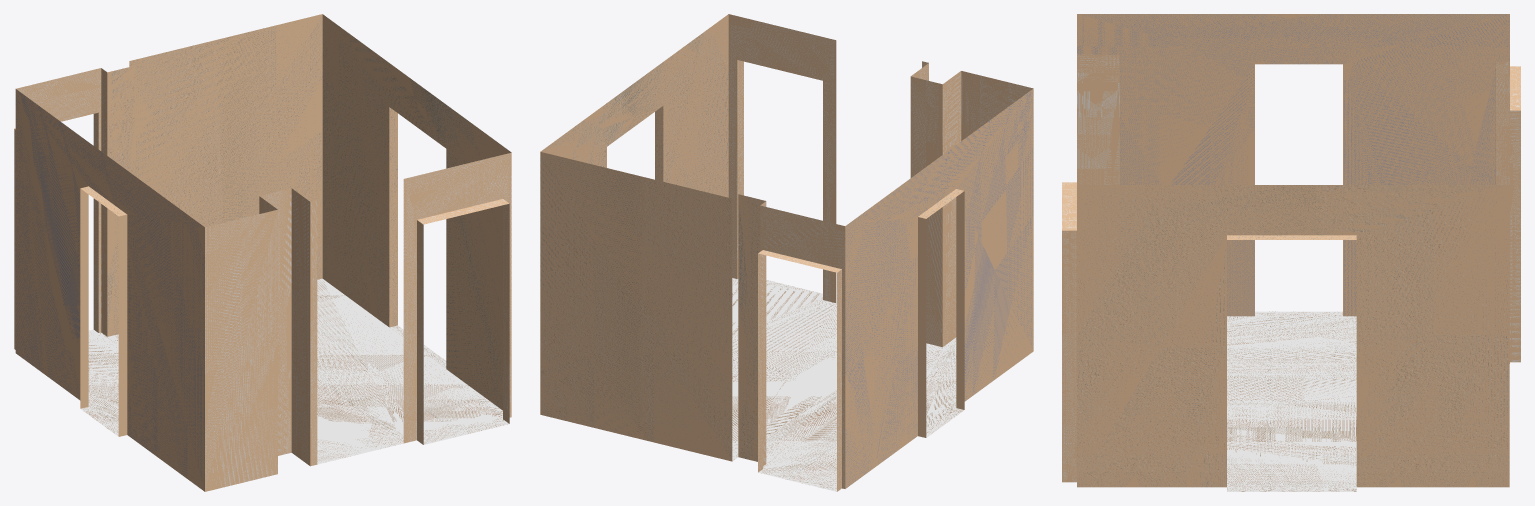
Rendered from COM036.obj.
The picture shows the model from 3 angles, left to right: view 1: azimuth 30°, elevation 25°; view 2: azimuth 150°, elevation 25°; view 3: azimuth 270°, elevation 25°; orthographic projection. The views are drawn at different scales.
Visible parts, largest first — view 1: Mesh1 COM036 Model; view 2: Mesh1 COM036 Model; view 3: Mesh1 COM036 Model.
Part boxes in pixels (bbox=[...]): Mesh1 COM036 Model: bbox=[14, 14, 511, 491]; Mesh1 COM036 Model: bbox=[540, 14, 1033, 491]; Mesh1 COM036 Model: bbox=[1062, 14, 1520, 491].
Size of the model in its own units: 4.61 by 3.6 by 4.95.
5 materials, 2 textured.
